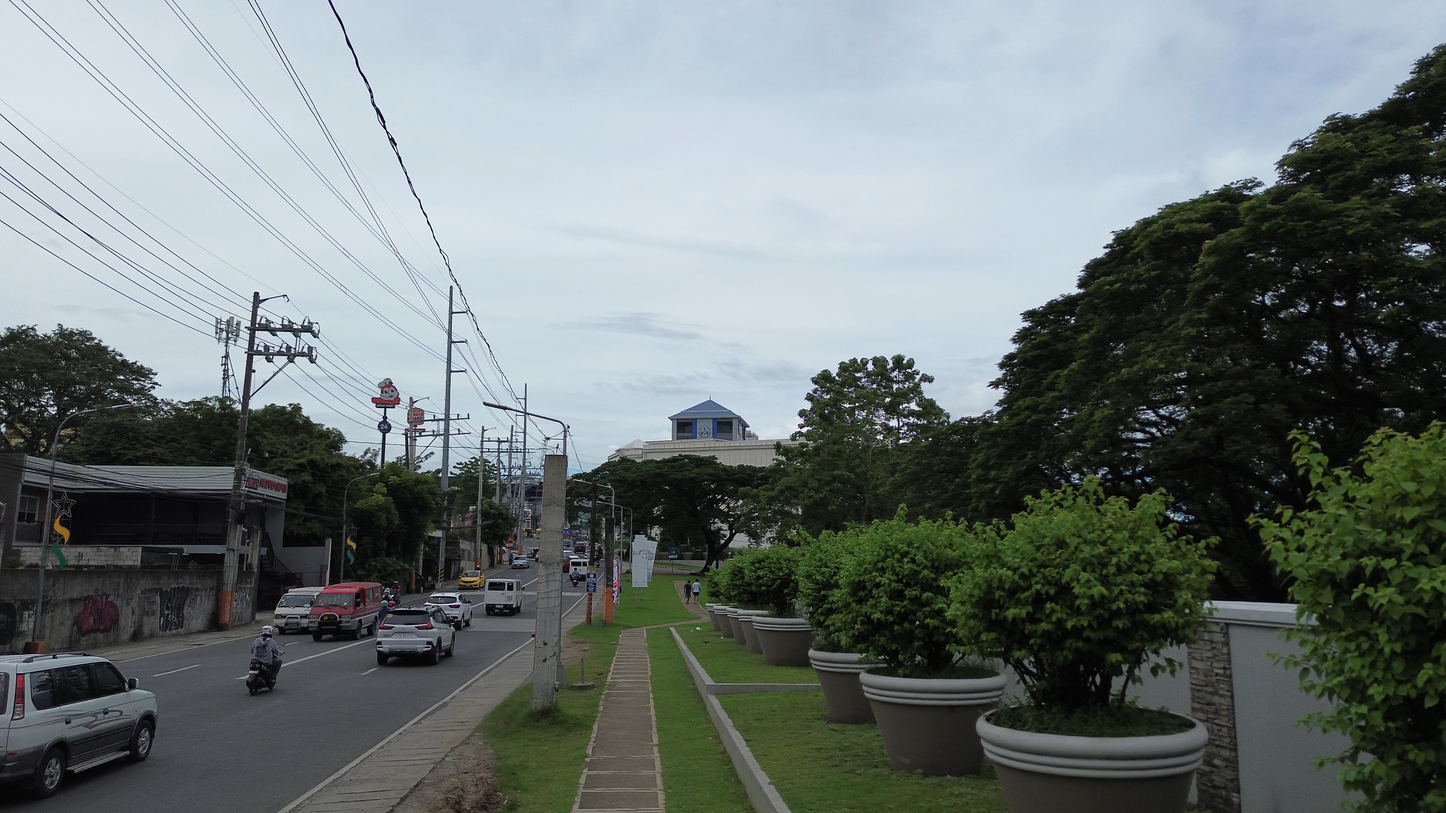motorcycle: (246, 659, 281, 695)
vehicle: (0, 653, 157, 797), (376, 607, 456, 665), (308, 582, 382, 640), (273, 587, 324, 634), (424, 593, 473, 629), (483, 578, 522, 615), (246, 658, 281, 695), (567, 557, 587, 586), (458, 569, 485, 589), (511, 554, 530, 568)
